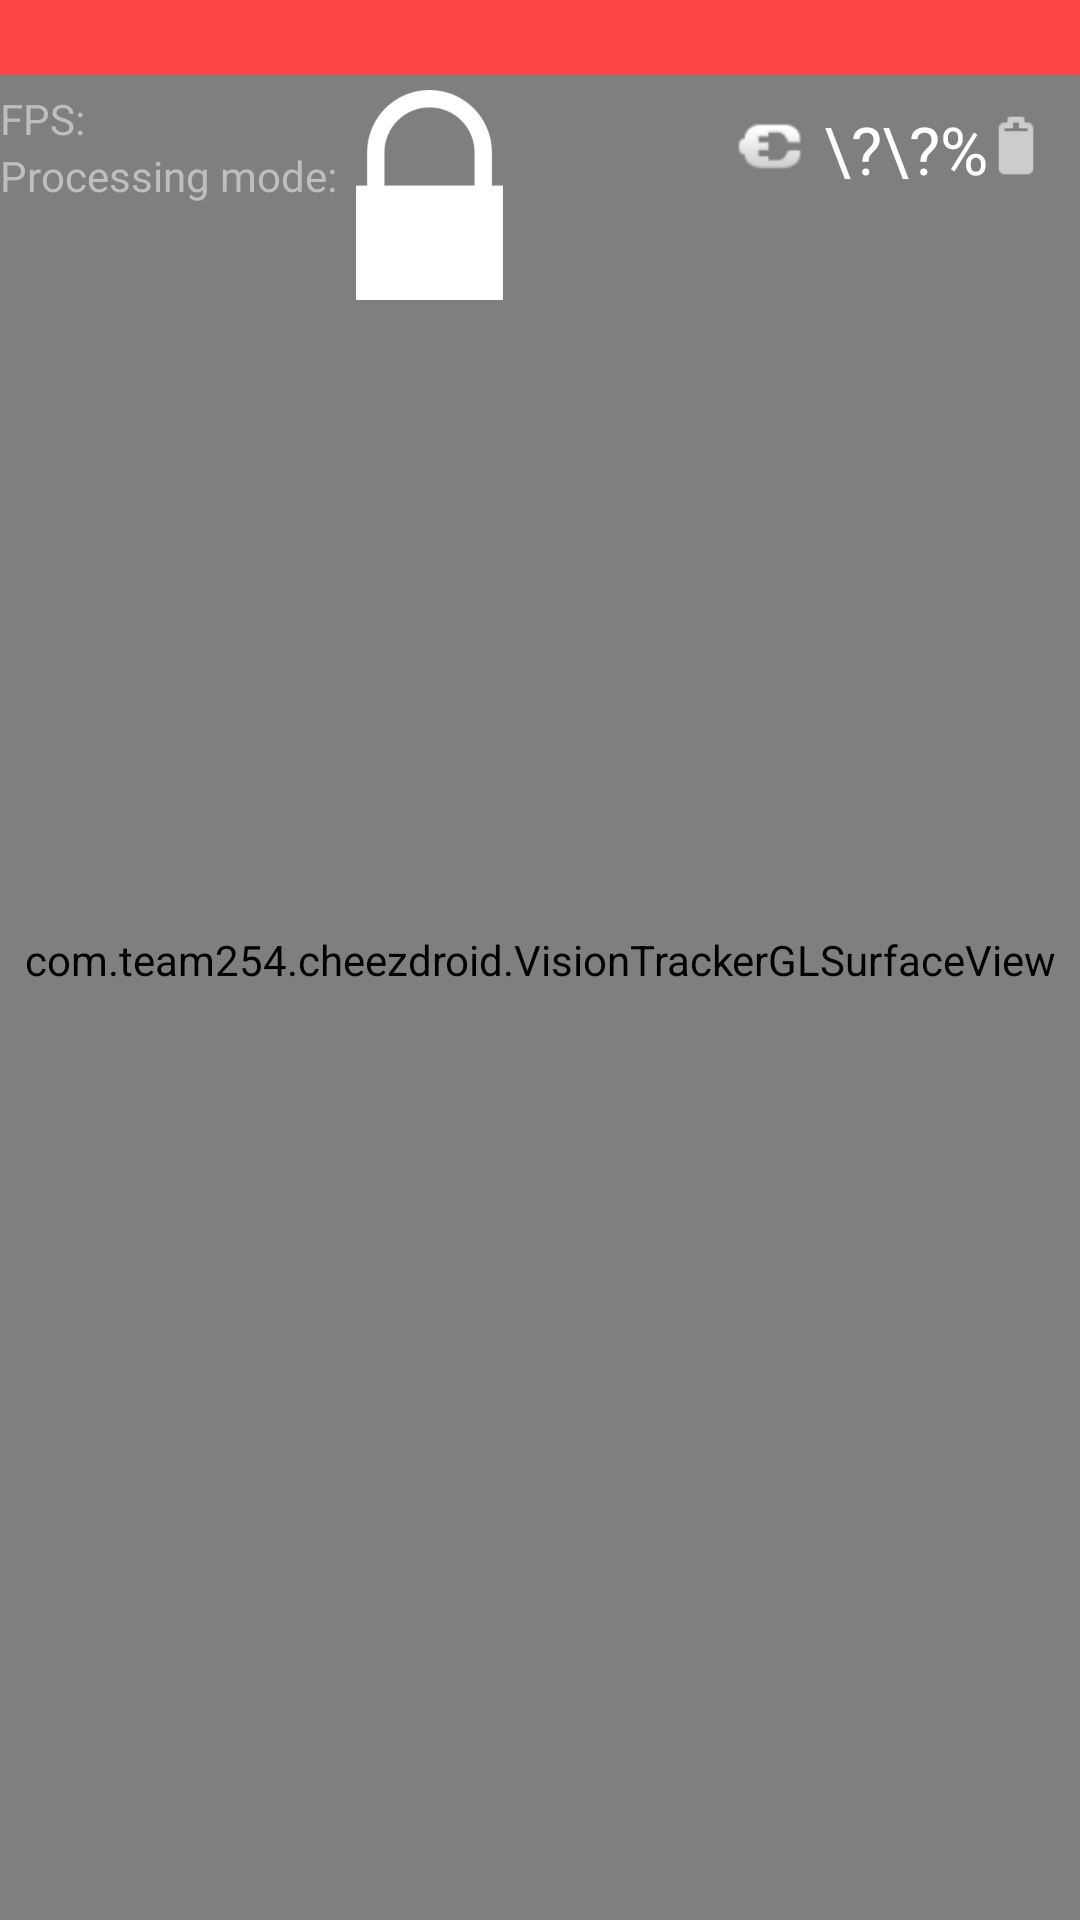

Icons on this 1080 x 1920 Android screen, each with the point to tap as (x,y):
locked: (429,195)
